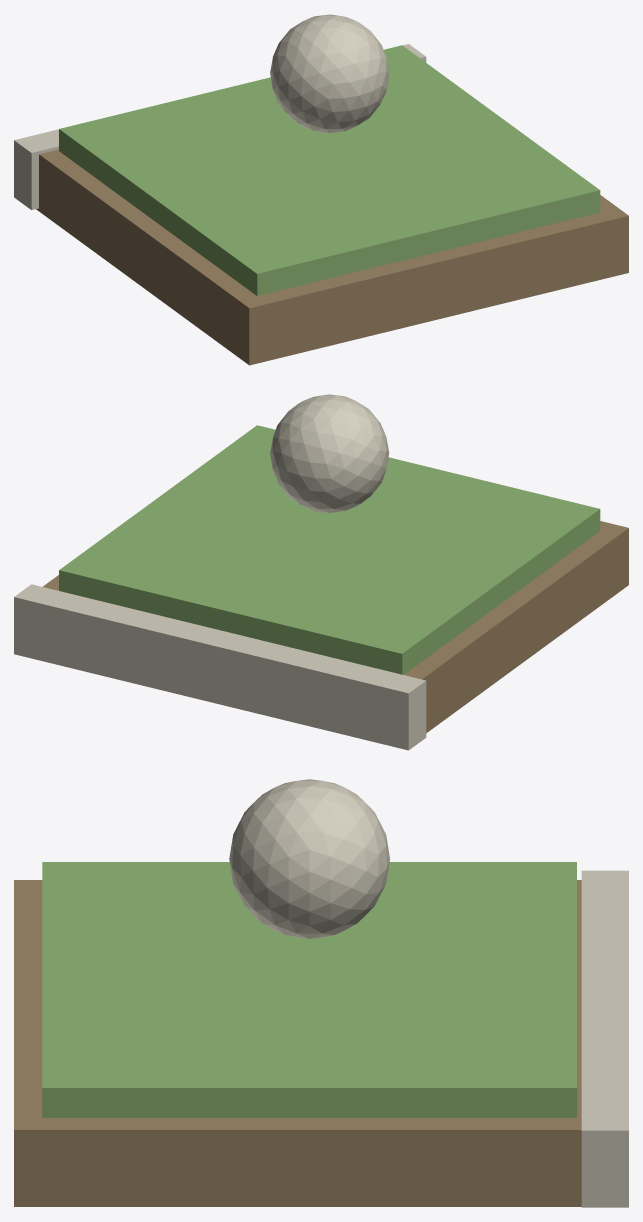
The picture shows the model from 3 angles, top to bottom: view 1: azimuth 30°, elevation 25°; view 2: azimuth 150°, elevation 25°; view 3: azimuth 270°, elevation 25°; orthographic projection. The views are drawn at different scales.
Visible parts, largest first — view 1: grass, soil, stone, border; view 2: grass, border, soil, stone; view 3: grass, soil, stone, border.
Part boxes in pixels (x1,y1,x2,y2): grass: (59,45,600,295); soil: (36,149,628,365); stone: (270,14,389,132); border: (14,44,426,209); grass: (59,425,600,674); border: (14,584,426,750); soil: (42,521,628,732); stone: (270,394,389,512); grass: (42,862,576,1117); soil: (14,880,581,1206); stone: (229,779,389,938); border: (581,870,628,1207).
Size of the model in its own units: 1.3 by 0.69 by 1.3.
